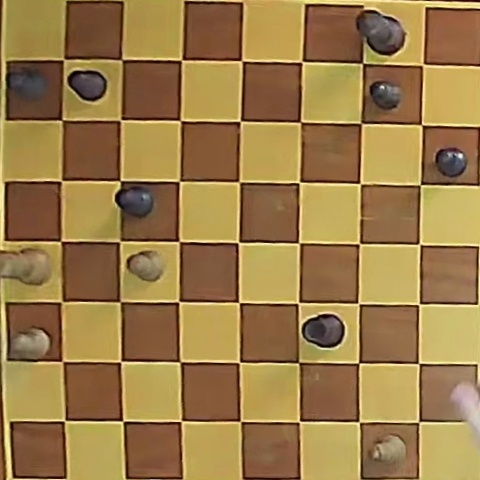black-king: (357, 10, 405, 55)
black-pawn: (7, 67, 47, 100), (68, 70, 107, 101), (116, 187, 154, 218), (434, 147, 467, 177), (370, 81, 402, 110)
black-rook: (303, 314, 344, 348)
white-bishop: (371, 435, 406, 465)
white-king: (1, 249, 52, 285)
white-pawn: (9, 327, 51, 361), (128, 250, 164, 281)
